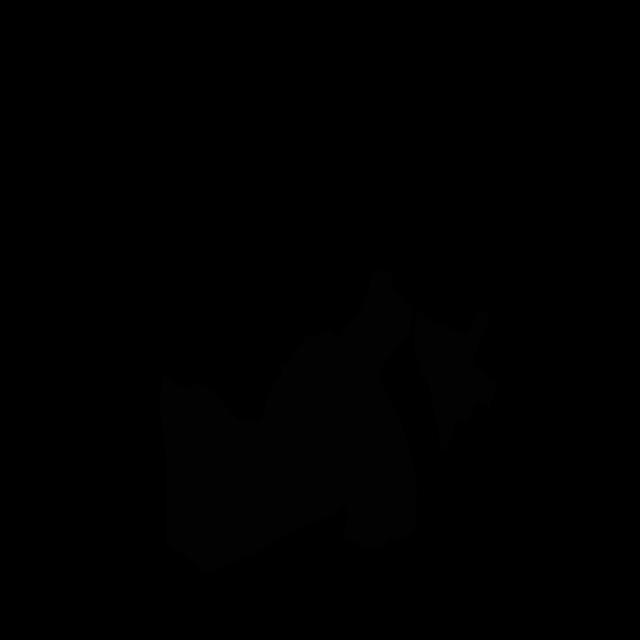cardboard: (160, 268, 418, 573), (414, 307, 496, 451)
